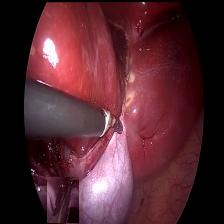Grasper: (46, 176, 78, 222)
Hook: (94, 101, 126, 135)
